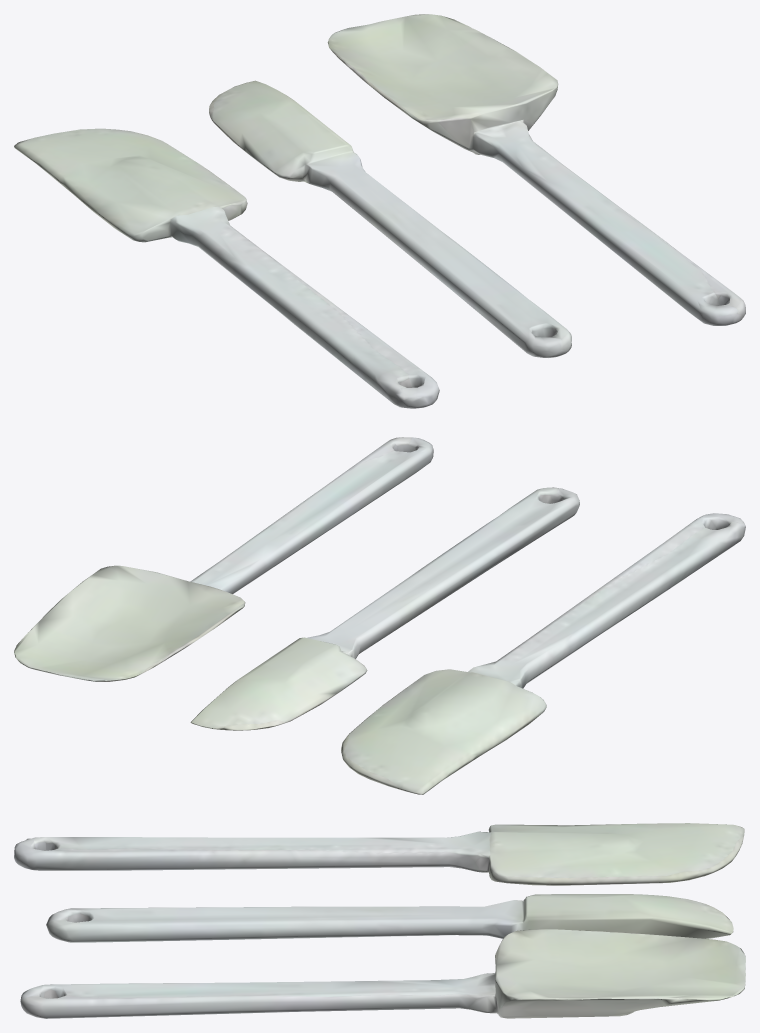
Rendered from Progressive_Rubber_Spatulas_3_count-high.glb.
3 renders of one model, top to bottom at view 1: azimuth 30°, elevation 25°; view 2: azimuth 150°, elevation 25°; view 3: azimuth 270°, elevation 25°, orthographic.
Visible parts, largest first — view 1: Progressive_Rubber_Spatulas_3_count; view 2: Progressive_Rubber_Spatulas_3_count; view 3: Progressive_Rubber_Spatulas_3_count.
Boxes of the visible parts, x1,y1,x2,y2 form: Progressive_Rubber_Spatulas_3_count: [14, 14, 745, 408]; Progressive_Rubber_Spatulas_3_count: [14, 437, 745, 794]; Progressive_Rubber_Spatulas_3_count: [14, 823, 745, 1018].
Bounding box in the file's own units: 0.1805 × 0.0209 × 0.2596.
1 material, 1 textured.
